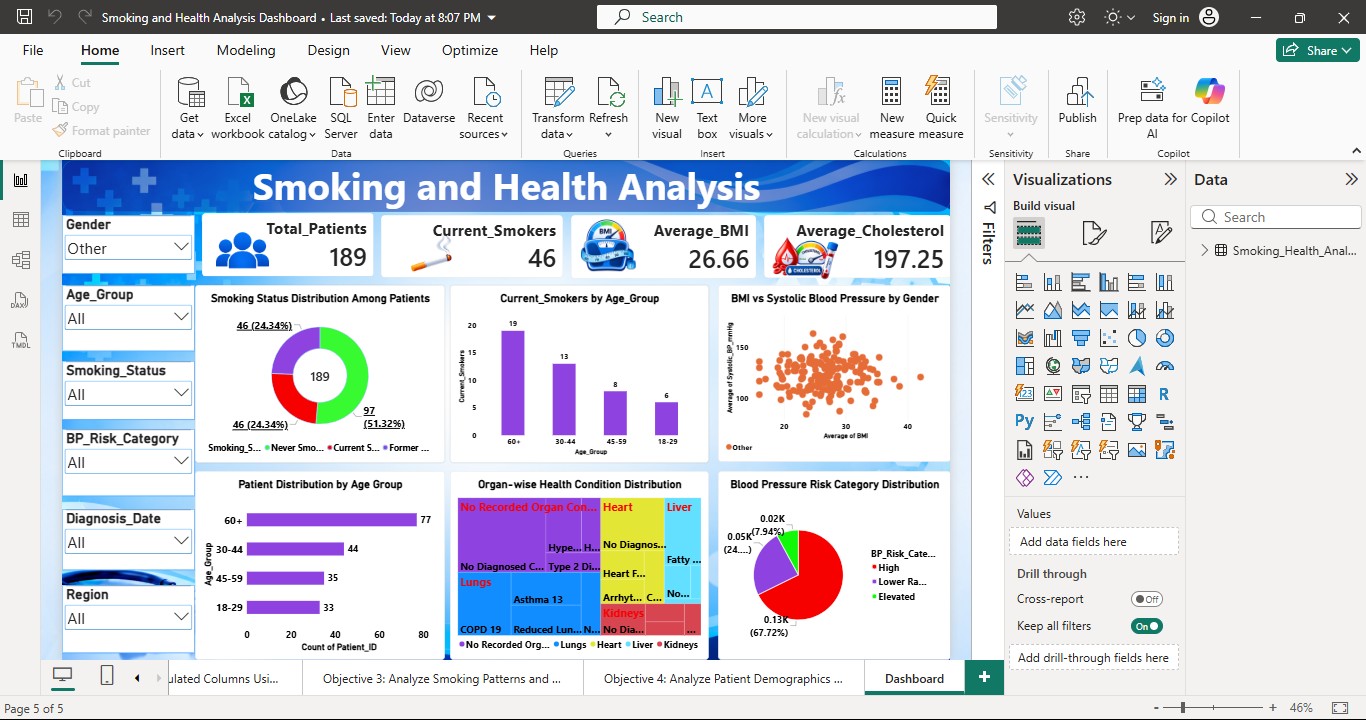

Layout of this report page (visuals, bound fields, positions):
{"tool":"powerbi","page":{"name":"Dashboard","canvas":[1920,1080],"ordinal":4},"visuals":[{"type":"shape","box":[0,0,1920,112],"z":0},{"type":"textbox","box":[0,0,1920,112],"z":1000},{"type":"cardVisual","fields":{"Data":["Smoking_Health_Analysis.Total_Patients"]},"box":[302.2,115.6,371.1,137.8],"z":1001},{"type":"cardVisual","fields":{"Data":["Smoking_Health_Analysis.Current_Smokers"]},"box":[688.9,117.8,393.3,135.6],"z":1002},{"type":"cardVisual","fields":{"Data":["Smoking_Health_Analysis.Average_BMI"]},"box":[1100,117.8,400,137.8],"z":1003},{"type":"cardVisual","title":"Average cholesterol","fields":{"Data":["Smoking_Health_Analysis.Average_Cholesterol"]},"box":[1516.3,118.8,404,136],"z":1004},{"type":"image","box":[302.2,73.3,175,239.8],"z":1005},{"type":"image","box":[673.3,157.8,248.4,86.4],"z":1006},{"type":"image","box":[1082.2,108.9,185.8,155.5],"z":1007},{"type":"image","box":[1516.3,155.5,172.8,114.5],"z":1008},{"type":"slicer","fields":{"Values":["Smoking_Health_Analysis.Gender"]},"box":[0,118.8,287.3,127.4],"z":1009},{"type":"slicer","fields":{"Values":["Smoking_Health_Analysis.Age_Group"]},"box":[0,270,287.3,142.6],"z":1010},{"type":"slicer","fields":{"Values":["Smoking_Health_Analysis.Region"]},"box":[0,918,287.3,146.9],"z":1011},{"type":"slicer","fields":{"Values":["Smoking_Health_Analysis.Smoking_Status"]},"box":[0,434.2,287.3,127.4],"z":1012},{"type":"slicer","fields":{"Values":["Smoking_Health_Analysis.Diagnosis_Date"]},"box":[0,753.8,287.3,131.8],"z":1013},{"type":"slicer","fields":{"Values":["Smoking_Health_Analysis.BP_Risk_Category"]},"box":[0,581,287.3,144.7],"z":1014},{"type":"donutChart","title":"Smoking Status Distribution Among Patients","fields":{"Category":["Smoking_Health_Analysis.Smoking_Status"],"Y":["Smoking_Health_Analysis.Total_Patients"]},"box":[287.3,270,540,384.5],"z":1015},{"type":"clusteredColumnChart","fields":{"Category":["Smoking_Health_Analysis.Age_Group"],"Y":["Smoking_Health_Analysis.Current_Smokers"]},"box":[838.1,270,559.4,384.5],"z":1016},{"type":"clusteredBarChart","title":"Patient Distribution by Age Group","fields":{"Category":["Smoking_Health_Analysis.Age_Group"],"Y":["CountNonNull(Smoking_Health_Analysis.Patient_ID)"]},"box":[287.3,671.8,540,408.2],"z":1017},{"type":"treemap","title":"Organ-wise Health Condition Distribution","fields":{"Details":["Smoking_Health_Analysis.Health_Condition"],"Group":["Smoking_Health_Analysis.Diagnosed_Organ"],"Values":["Smoking_Health_Analysis.Total_Patients"]},"box":[838.1,671.8,559.4,408.2],"z":1018},{"type":"pieChart","title":"Blood Pressure Risk Category Distribution","fields":{"Category":["Smoking_Health_Analysis.BP_Risk_Category"],"Y":["CountNonNull(Smoking_Health_Analysis.Patient_ID)"]},"box":[1417,671.8,503.3,408.2],"z":1019},{"type":"scatterChart","title":"BMI vs Systolic Blood Pressure by Gender","fields":{"Category":["Smoking_Health_Analysis.Patient_ID"],"Series":["Smoking_Health_Analysis.Gender"],"X":["Avg(Smoking_Health_Analysis.BMI)"],"Y":["Avg(Smoking_Health_Analysis.Systolic_BP_mmHg)"]},"box":[1417,270,503.3,382.3],"z":1020}]}

Visuals, with their boxes on the page's 1920x1080 design canvas (x1, y1, x2, y2). These are canvas units, not pixel positions in the 1366x720 screenshot, which may show the page scaled, cropped or inside an application window:
shape: crop(0, 0, 1920, 112)
textbox: crop(0, 0, 1920, 112)
cardVisual - Smoking_Health_Analysis.Total_Patients: crop(302, 116, 673, 253)
cardVisual - Smoking_Health_Analysis.Current_Smokers: crop(689, 118, 1082, 253)
cardVisual - Smoking_Health_Analysis.Average_BMI: crop(1100, 118, 1500, 256)
"Average cholesterol" cardVisual: crop(1516, 119, 1920, 255)
image: crop(302, 73, 477, 313)
image: crop(673, 158, 922, 244)
image: crop(1082, 109, 1268, 264)
image: crop(1516, 156, 1689, 270)
slicer - Smoking_Health_Analysis.Gender: crop(0, 119, 287, 246)
slicer - Smoking_Health_Analysis.Age_Group: crop(0, 270, 287, 413)
slicer - Smoking_Health_Analysis.Region: crop(0, 918, 287, 1065)
slicer - Smoking_Health_Analysis.Smoking_Status: crop(0, 434, 287, 562)
slicer - Smoking_Health_Analysis.Diagnosis_Date: crop(0, 754, 287, 886)
slicer - Smoking_Health_Analysis.BP_Risk_Category: crop(0, 581, 287, 726)
"Smoking Status Distribution Among Patients" donutChart: crop(287, 270, 827, 654)
clusteredColumnChart - Smoking_Health_Analysis.Age_Group x Smoking_Health_Analysis.Current_Smokers: crop(838, 270, 1398, 654)
"Patient Distribution by Age Group" clusteredBarChart: crop(287, 672, 827, 1080)
"Organ-wise Health Condition Distribution" treemap: crop(838, 672, 1398, 1080)
"Blood Pressure Risk Category Distribution" pieChart: crop(1417, 672, 1920, 1080)
"BMI vs Systolic Blood Pressure by Gender" scatterChart: crop(1417, 270, 1920, 652)
